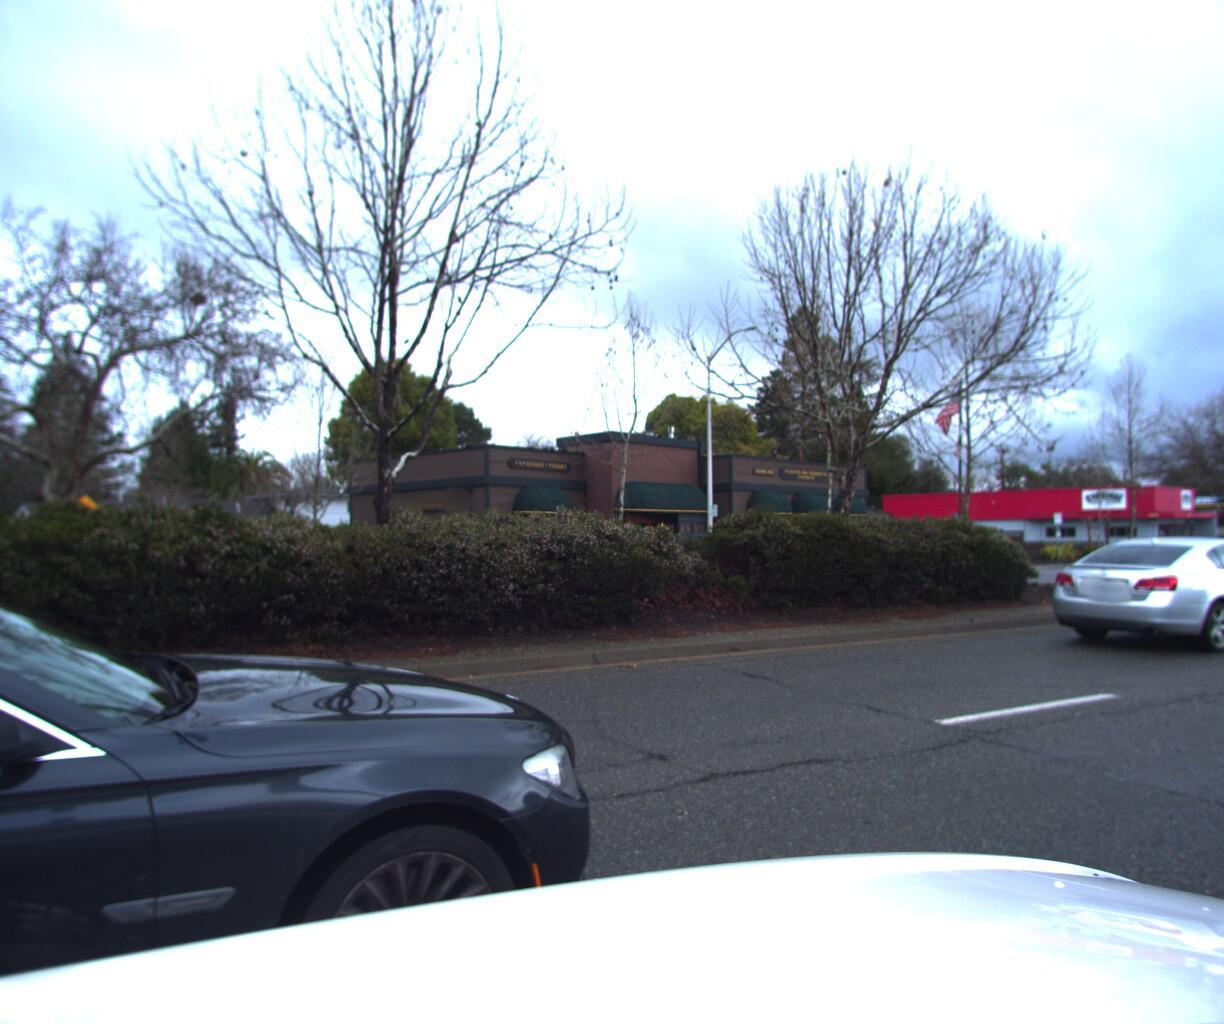bicycle: (1194, 521, 1223, 539)
car: (0, 532, 711, 1024), (1024, 518, 1224, 663)
